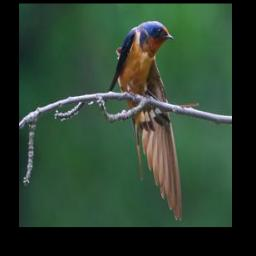Swallow: (103, 17, 185, 221)
